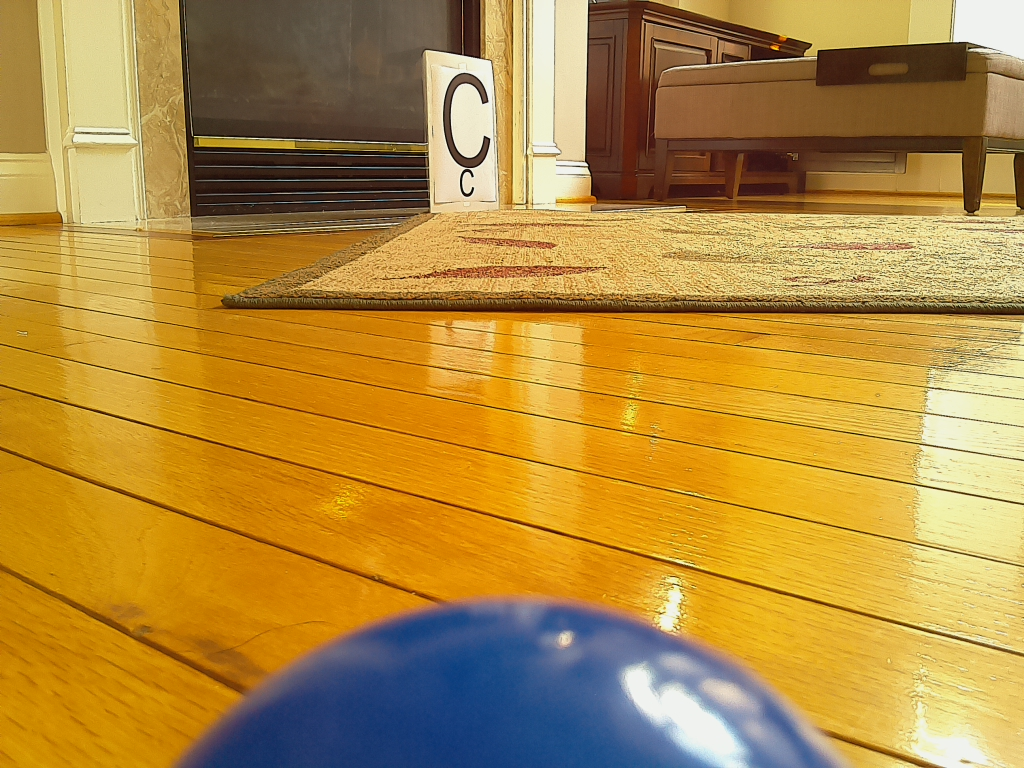letter: (443, 73, 489, 168)
